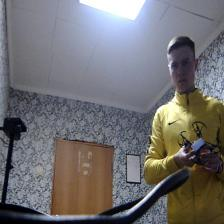drone: (176, 117, 220, 169)
